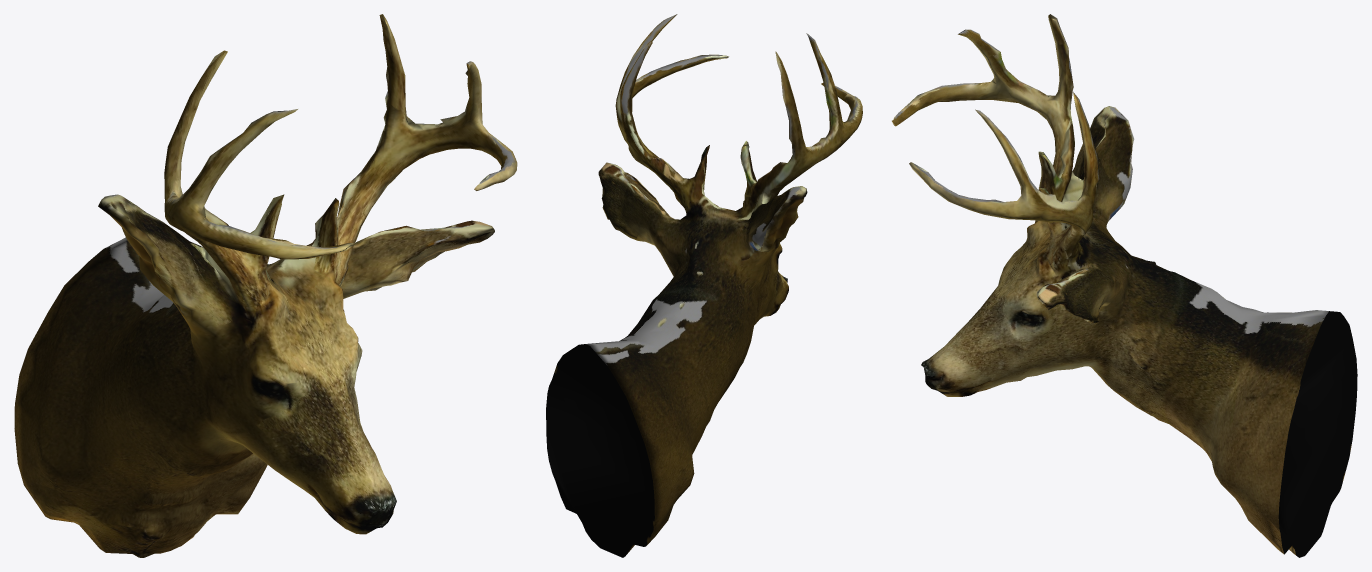
File: deerhead.glb
The picture shows the model from 3 angles, left to right: view 1: azimuth 30°, elevation 25°; view 2: azimuth 150°, elevation 25°; view 3: azimuth 270°, elevation 25°; orthographic projection. The views are drawn at different scales.
Parts seen in each view (by area): view 1: Object_2; view 2: Object_2; view 3: Object_2.
Boxes of the visible parts, <box> form: Object_2: <box>14,14,517,557</box>; Object_2: <box>546,14,862,557</box>; Object_2: <box>892,14,1357,557</box>.
Size of the model in its own units: 0.5604 by 0.9895 by 0.8291.
1 material, 1 textured.
